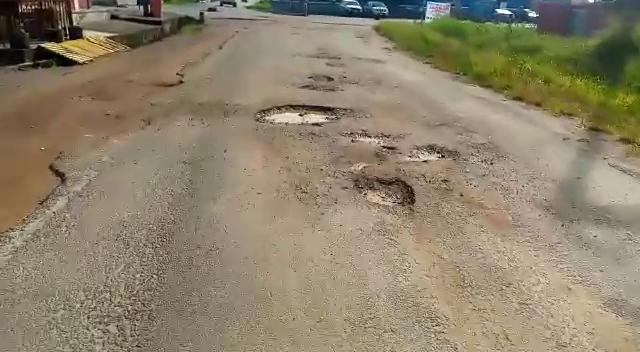pothole: (346, 171, 417, 208), (253, 103, 354, 128), (405, 144, 460, 164), (343, 131, 404, 149)
